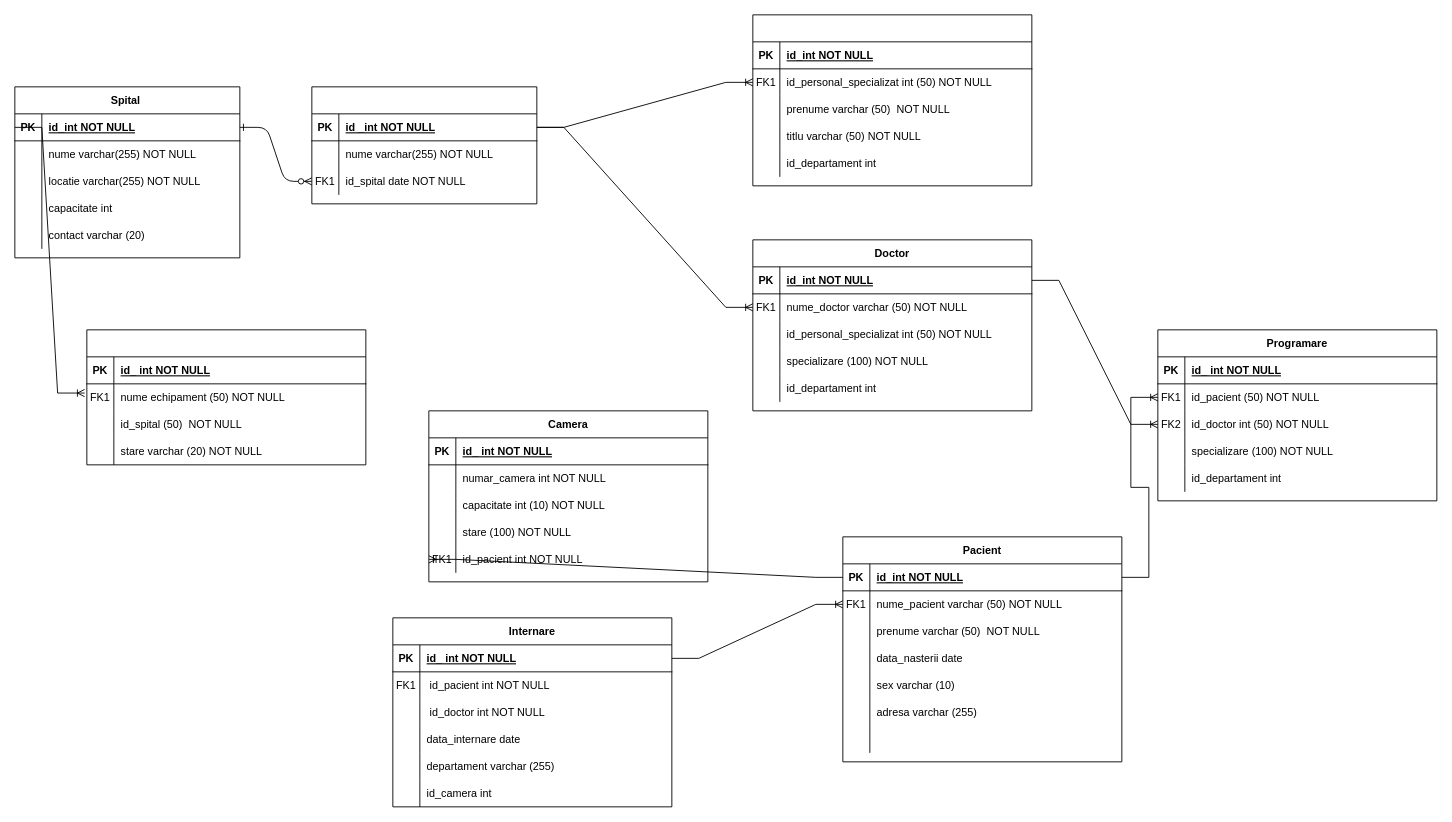
The diagram is 1452 pixels wide and 822 high, and some of its shapes have lost their labels. The box of each missing label's shape, as (x1, y1, x2, y2) in pixels:
Asistent medical: (752, 14, 1032, 186)
Departament: (311, 86, 537, 204)
Echipamente: (86, 329, 366, 465)
